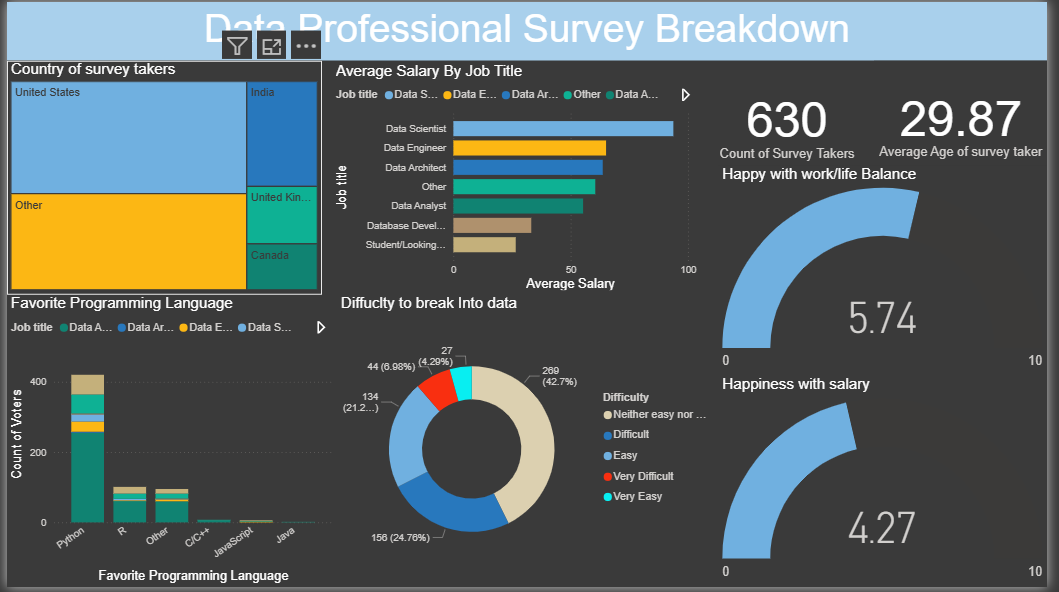

The page's visual inventory and layout, read from the dashboard file:
{"tool":"powerbi","page":{"name":"Page 1","canvas":[1280,720],"ordinal":0},"visuals":[{"type":"textbox","box":[9.6,0,1270.7,72.7],"z":0},{"type":"card","fields":{"Values":["CountNonNull(Data Professional Survey.Unique ID)"]},"box":[854.3,74.3,212.9,150],"z":1000},{"type":"card","fields":{"Values":["Avg(Data Professional Survey.Q10 - Current Age)"]},"box":[1067.1,72.9,212.9,150],"z":2000},{"type":"barChart","title":"Average Salary By Job Title ","fields":{"Category":["Data Professional Survey.Q1 - Which Title Best Fits your Current Role?.1"],"Y":["Avg(Data Professional Survey.Average Salary)"],"Series":["Data Professional Survey.Q1 - Which Title Best Fits your Current Role?.1"]},"box":[400,74.3,454.3,285.7],"z":3000},{"type":"columnChart","title":"  Favorite Programming Language","fields":{"Category":["Data Professional Survey.Q5 - Favorite Programming Language.1"],"Y":["CountNonNull(Data Professional Survey.Unique ID)"],"Series":["Data Professional Survey.Q1 - Which Title Best Fits your Current Role?.1"]},"box":[0,360,405.7,360],"z":4000},{"type":"treemap","title":"Country of survey takers","fields":{"Group":["Data Professional Survey.Q11 - Which Country do you live in?.1"],"Values":["CountNonNull(Data Professional Survey.Q11 - Which Country do you live in?.1)"]},"box":[0,72.9,387.1,287.1],"z":5000},{"type":"gauge","title":"Happy with work/life Balance ","fields":{"Y":["Avg(Data Professional Survey.Q6 - How Happy are you in your Current Position with the following? (Work/Life Balance))"],"MinValue":["Min(Data Professional Survey.Q6 - How Happy are you in your Current Position with the following? (Work/Life Balance))"],"MaxValue":["Max(Data Professional Survey.Q6 - How Happy are you in your Current Position with the following? (Work/Life Balance))1"]},"box":[875.7,201.4,404.3,258.6],"z":6000},{"type":"gauge","title":"Happiness with salary","fields":{"Y":["Avg(Data Professional Survey.Q6 - How Happy are you in your Current Position with the following? (Salary))"],"MinValue":["Min(Data Professional Survey.Q6 - How Happy are you in your Current Position with the following? (Salary))"],"MaxValue":["Max(Data Professional Survey.Q6 - How Happy are you in your Current Position with the following? (Upward Mobility))"]},"box":[875.7,460,404.3,260],"z":7000},{"type":"donutChart","title":"Diffuclty to break Into data","fields":{"Category":["Data Professional Survey.Q7 - How difficult was it for you to break into Data?"],"Y":["CountNonNull(Data Professional Survey.Q7 - How difficult was it for you to break into Data?)"]},"box":[405.7,360,470,360],"z":8000}]}

Visuals, with their boxes in screenshot pixels (x1, y1, x2, y2), scaled from the page's 1280x720 canvas onto the 1059x592 screenshot:
textbox: (left=8, top=0, right=1058, bottom=60)
card - CountNonNull(Data Professional Survey.Unique ID): (left=707, top=61, right=883, bottom=184)
card - Avg(Data Professional Survey.Q10 - Current Age): (left=883, top=60, right=1058, bottom=183)
"Average Salary By Job Title " barChart: (left=331, top=61, right=707, bottom=296)
"  Favorite Programming Language" columnChart: (left=0, top=296, right=336, bottom=591)
"Country of survey takers" treemap: (left=0, top=60, right=320, bottom=296)
"Happy with work/life Balance " gauge: (left=725, top=166, right=1058, bottom=378)
"Happiness with salary" gauge: (left=725, top=378, right=1058, bottom=591)
"Diffuclty to break Into data" donutChart: (left=336, top=296, right=725, bottom=591)
